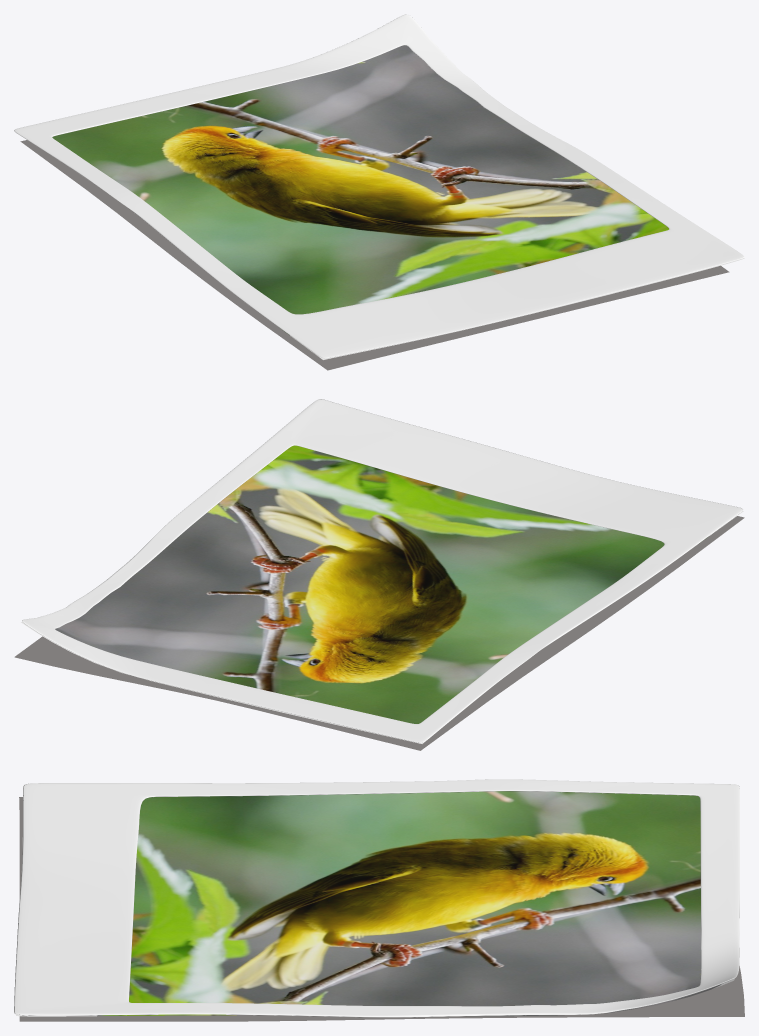
3 renders of one model, top to bottom at view 1: azimuth 30°, elevation 25°; view 2: azimuth 150°, elevation 25°; view 3: azimuth 270°, elevation 25°, orthographic. The views are drawn at different scales.
Bounding box in the file's own units: 9.74 × 0.7119 × 12.82.
3 materials, 1 textured.
